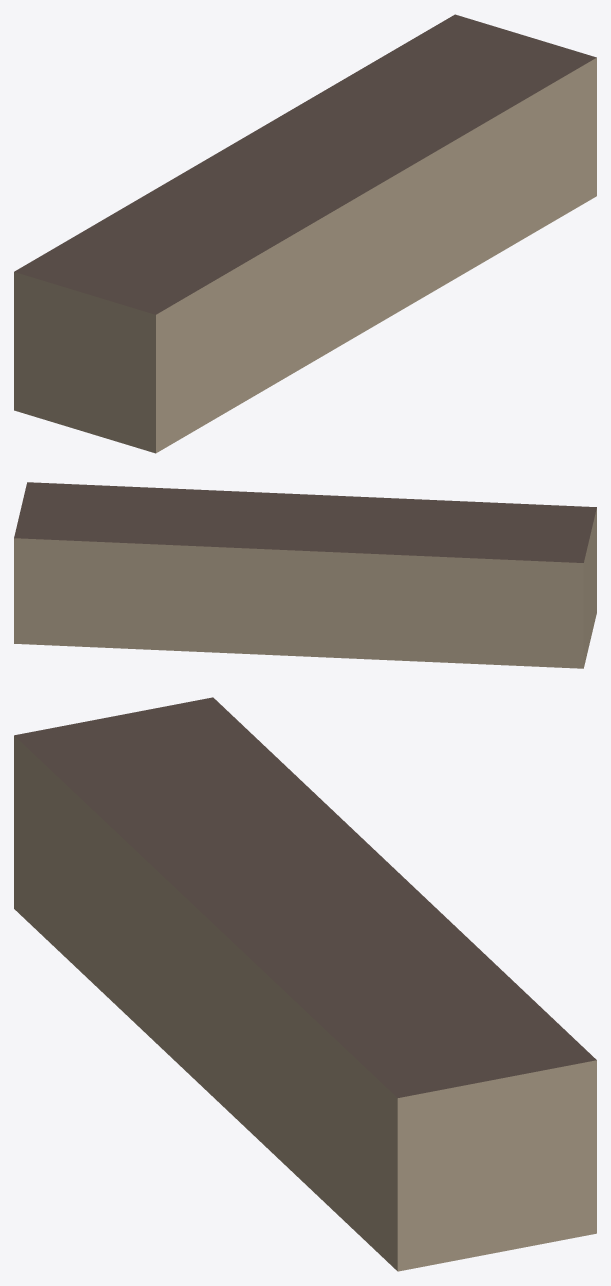
3 renders of one model, top to bottom at view 1: azimuth 30°, elevation 25°; view 2: azimuth 150°, elevation 25°; view 3: azimuth 270°, elevation 25°, orthographic. The views are drawn at different scales.
Visible parts, largest first — view 1: HP-w859424157; view 2: HP-w859424157; view 3: HP-w859424157.
Part boxes in pixels (x1=…): HP-w859424157: x1=14, y1=14, x2=596, y2=453; HP-w859424157: x1=14, y1=482, x2=596, y2=668; HP-w859424157: x1=14, y1=697, x2=596, y2=1271.
Bounding box in the file's own units: 44.61 × 9 × 27.42.
